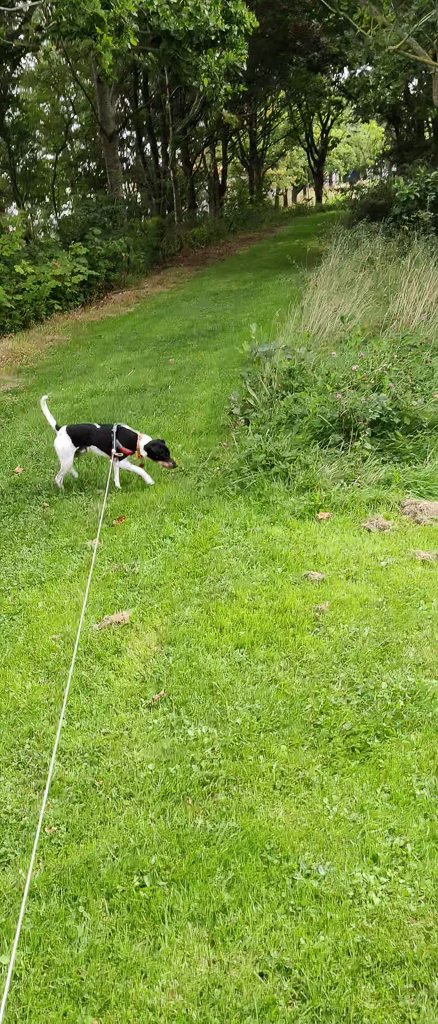Dog: (36, 392, 182, 497)
